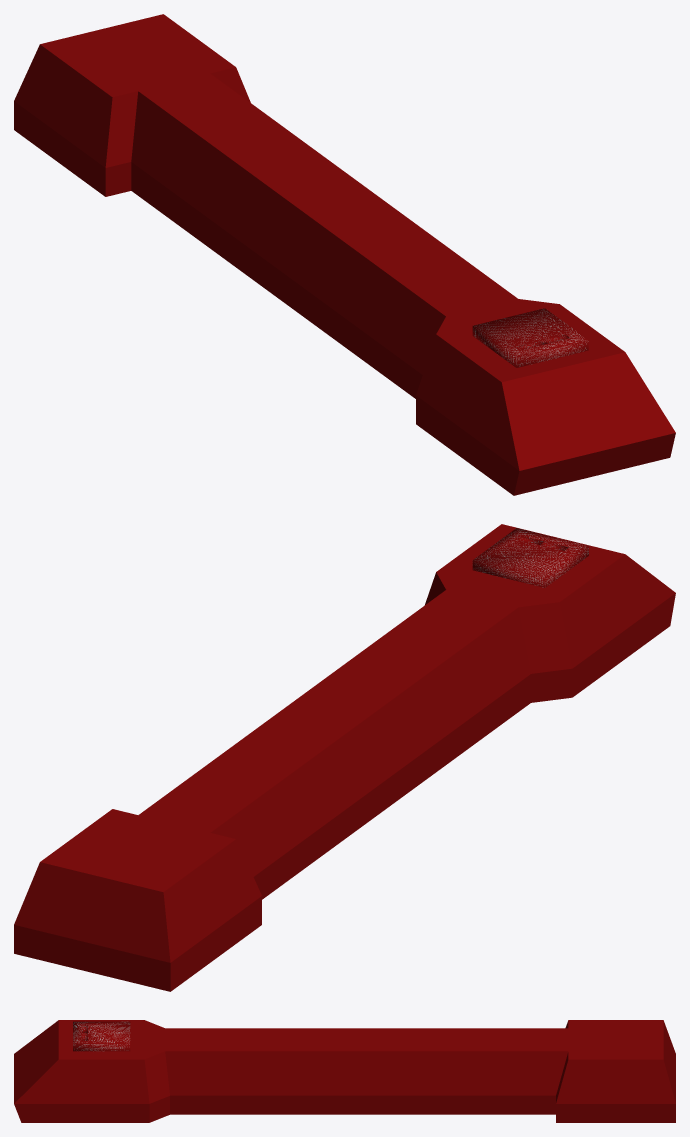
Rendered from original-1.obj.
3 renders of one model, top to bottom at view 1: azimuth 30°, elevation 25°; view 2: azimuth 150°, elevation 25°; view 3: azimuth 270°, elevation 25°, orthographic. The views are drawn at different scales.
Parts seen in each view (by area): view 1: Group2/mesh1/mesh1-geometry#mesh1-geometry; view 2: Group2/mesh1/mesh1-geometry#mesh1-geometry; view 3: Group2/mesh1/mesh1-geometry#mesh1-geometry.
Boxes of the visible parts, <box> form: Group2/mesh1/mesh1-geometry#mesh1-geometry: <box>14,14,675,495</box>; Group2/mesh1/mesh1-geometry#mesh1-geometry: <box>14,524,675,991</box>; Group2/mesh1/mesh1-geometry#mesh1-geometry: <box>14,1020,675,1122</box>.
Bounding box in the file's own units: 0.3447 × 0.2082 × 1.93.
